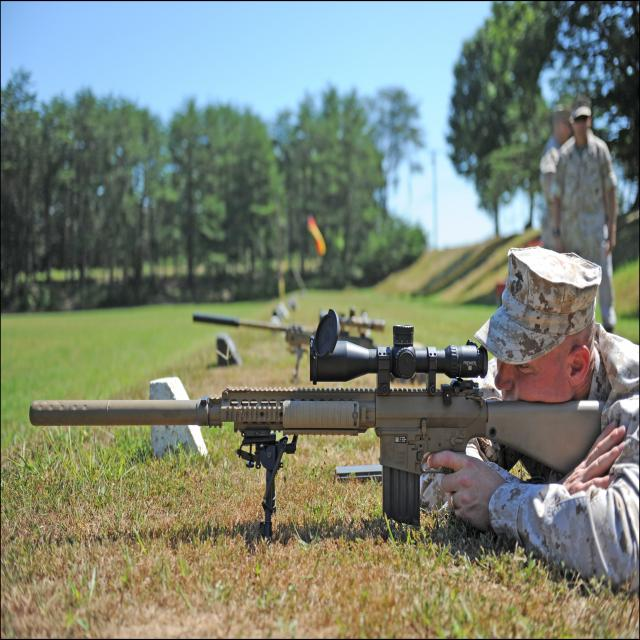Rifle: (29, 311, 607, 527)
